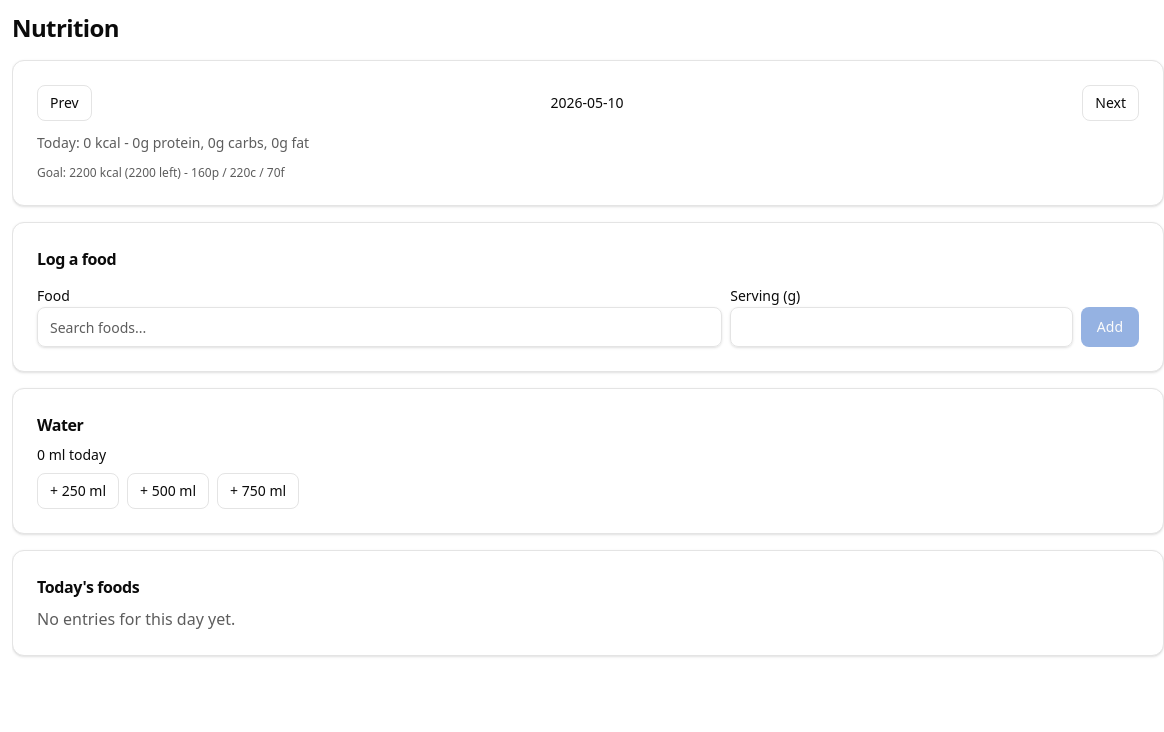
NutritionClient › posts a water sip when a water-add button is clicked
Expected: the element with test id "water-card" is shown, [12, 388, 1163, 534]
Click the button with test id "water-add-500" at (168,491), box [127, 473, 209, 509]
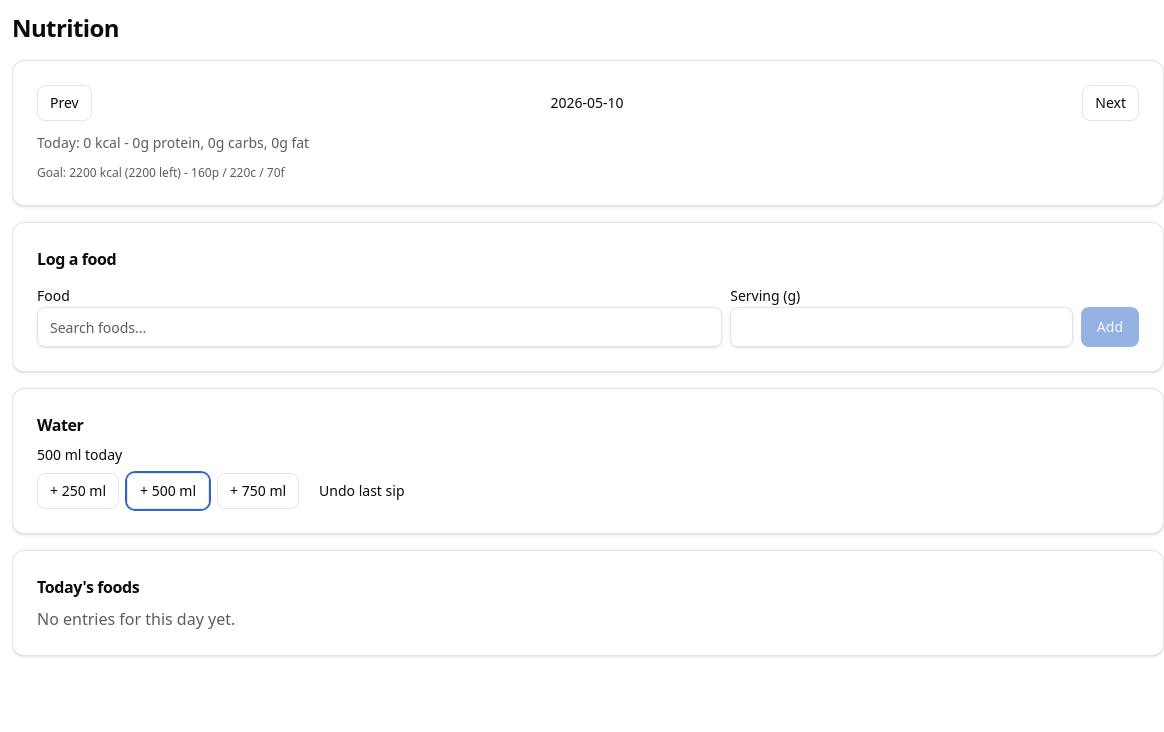
Now the text with test id "water-total" reads "500 ml today", box [37, 445, 122, 464]
